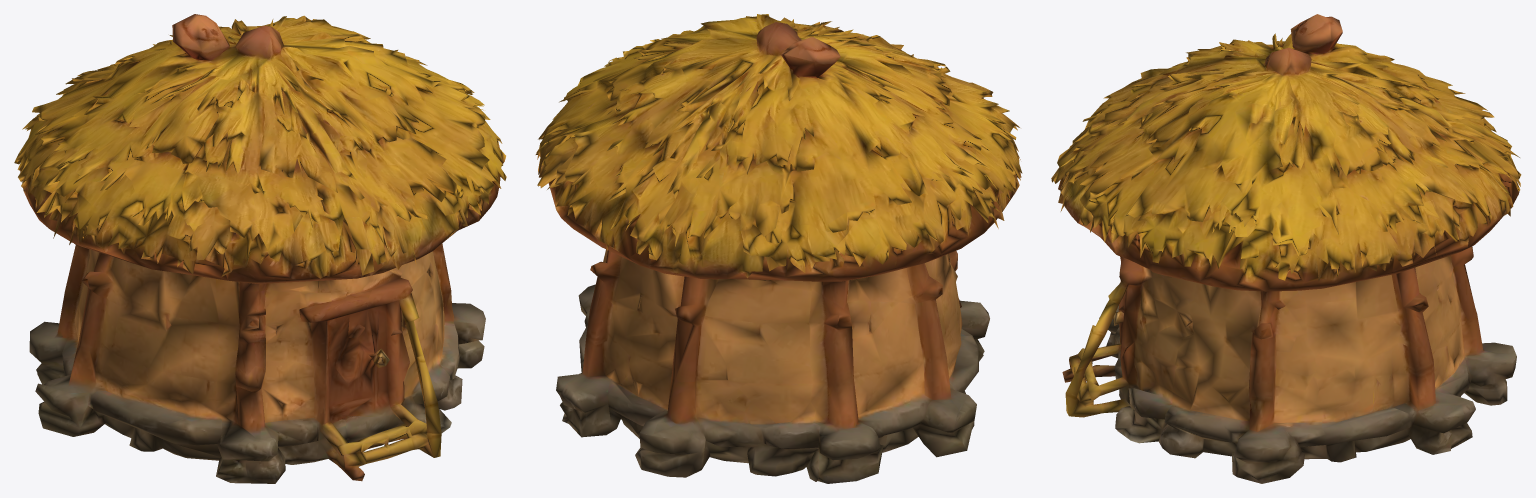
Rendered from h_granary.glb.
The picture shows the model from 3 angles, left to right: view 1: azimuth 30°, elevation 25°; view 2: azimuth 150°, elevation 25°; view 3: azimuth 270°, elevation 25°; orthographic projection. The views are drawn at different scales.
Parts seen in each view (by area): view 1: tripo_node_a3869672-076a-462e-91ef-7326c865aa07; view 2: tripo_node_a3869672-076a-462e-91ef-7326c865aa07; view 3: tripo_node_a3869672-076a-462e-91ef-7326c865aa07.
Boxes of the visible parts, bbox=[...] form: tripo_node_a3869672-076a-462e-91ef-7326c865aa07: bbox=[14, 14, 506, 483]; tripo_node_a3869672-076a-462e-91ef-7326c865aa07: bbox=[535, 14, 1022, 483]; tripo_node_a3869672-076a-462e-91ef-7326c865aa07: bbox=[1051, 14, 1521, 483].
Size of the model in its own units: 0.9993 by 0.8311 by 0.9938.
1 material, 1 textured.
